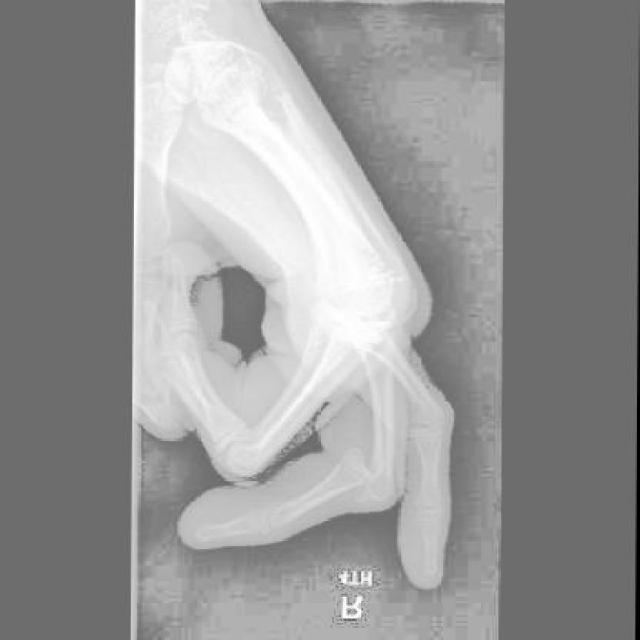Fracture: (335, 442, 390, 513)
